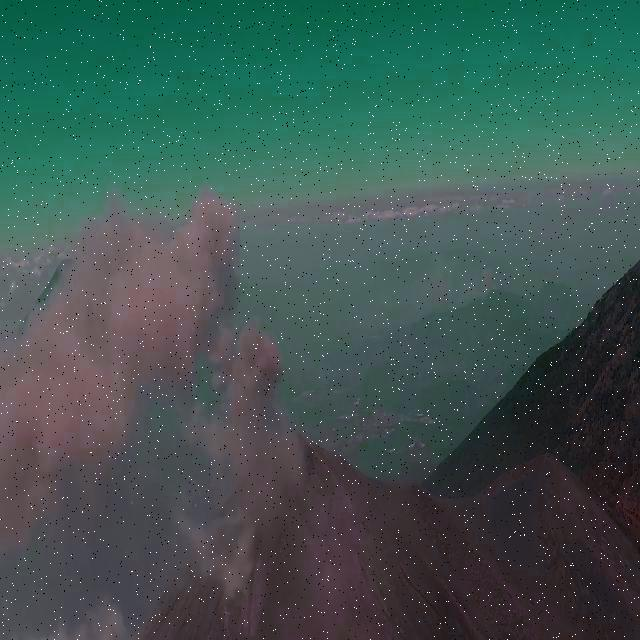Plume: (2, 170, 245, 556), (186, 314, 288, 472)
Summit: (149, 384, 437, 640)
